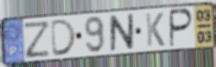9: (84, 15, 107, 55)
D: (50, 18, 78, 58)
K: (144, 12, 166, 48)
N: (108, 13, 135, 53)
P: (168, 8, 195, 50)
Z: (23, 20, 52, 61)
